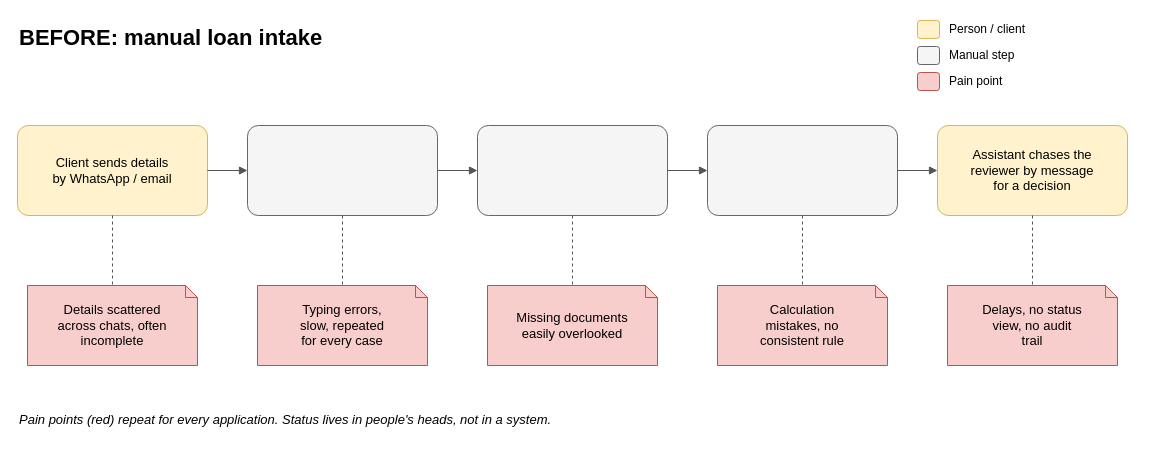
Image size: 1165x452. Some labels were removed from this diagram. The centre of each missing label's shape, as x and y in pixels:
"Assistant checks documents by eye" goes at (x=572, y=170).
"Assistant retypes details into a spreadsheet" goes at (x=342, y=170).
"Assistant works out DSR on a calculator" goes at (x=802, y=170).
